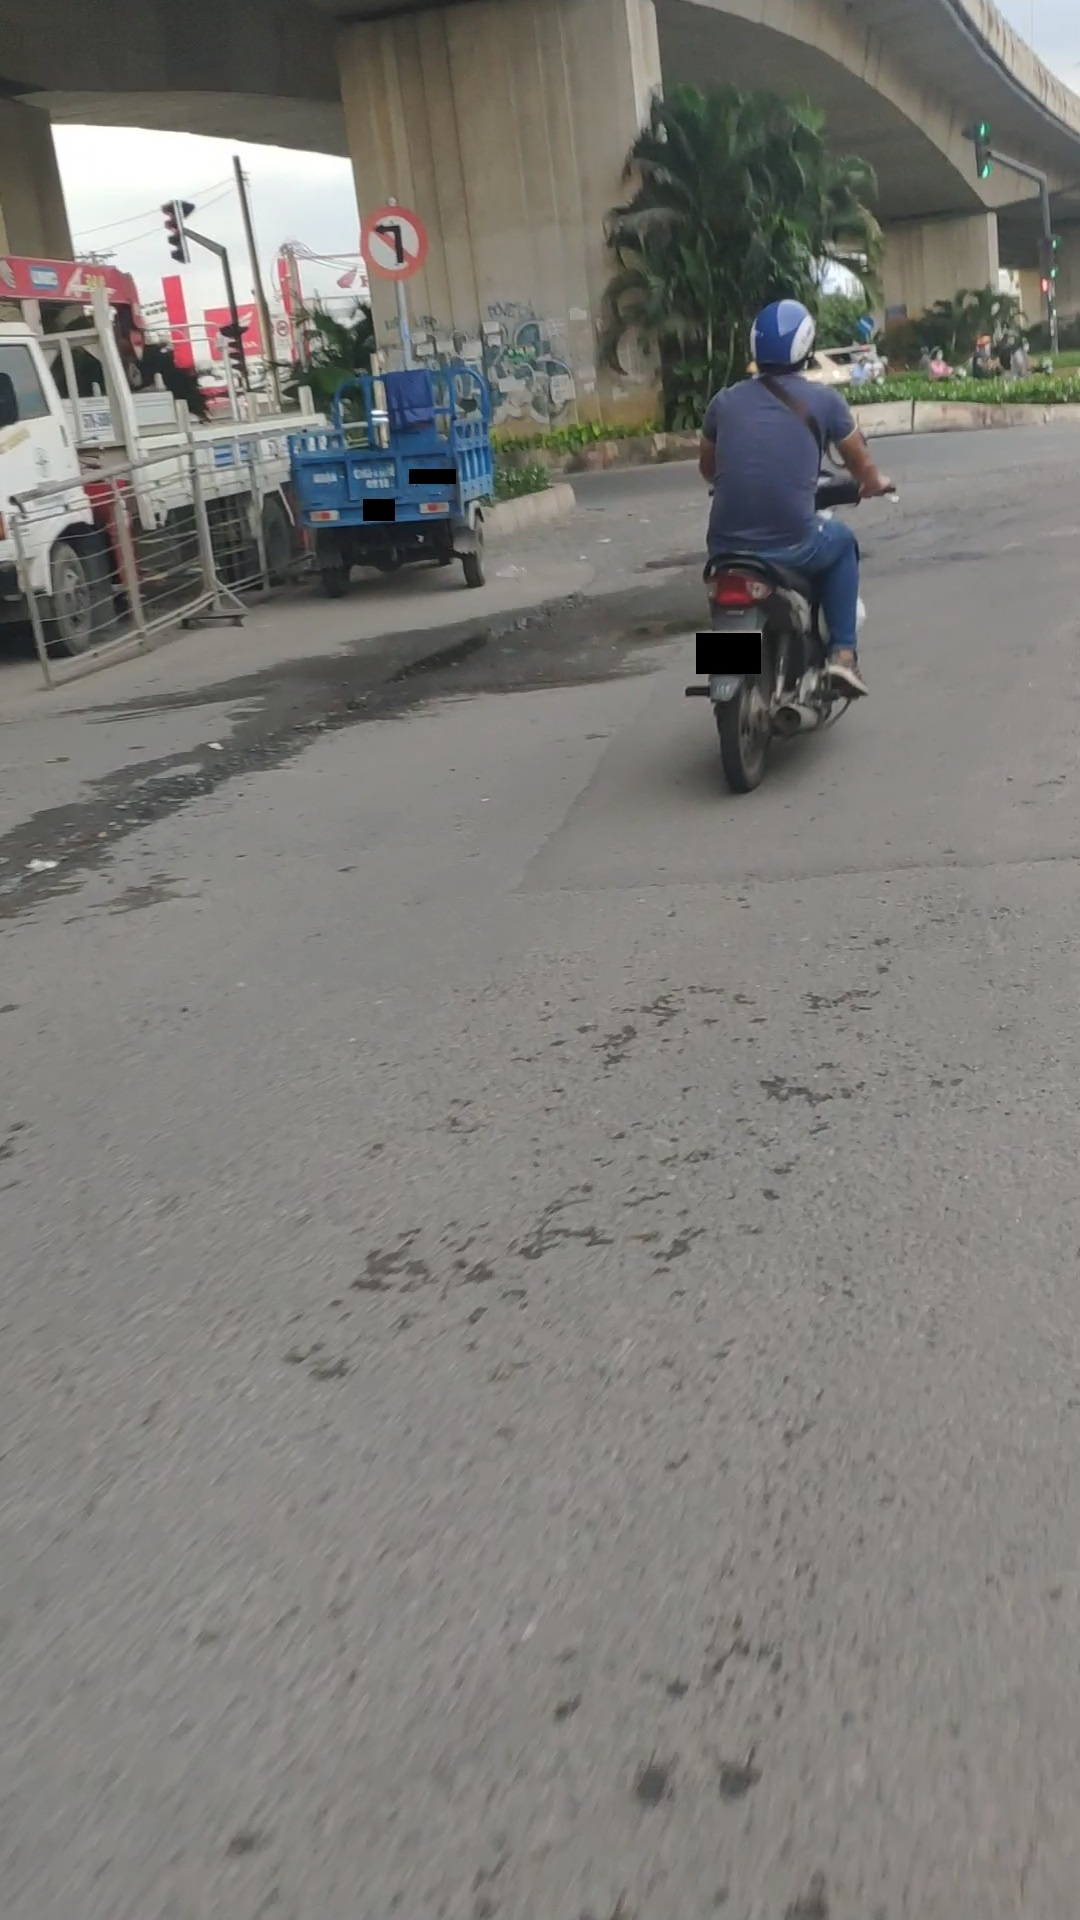hole: (351, 588, 588, 707), (611, 613, 694, 640), (632, 553, 703, 574)
